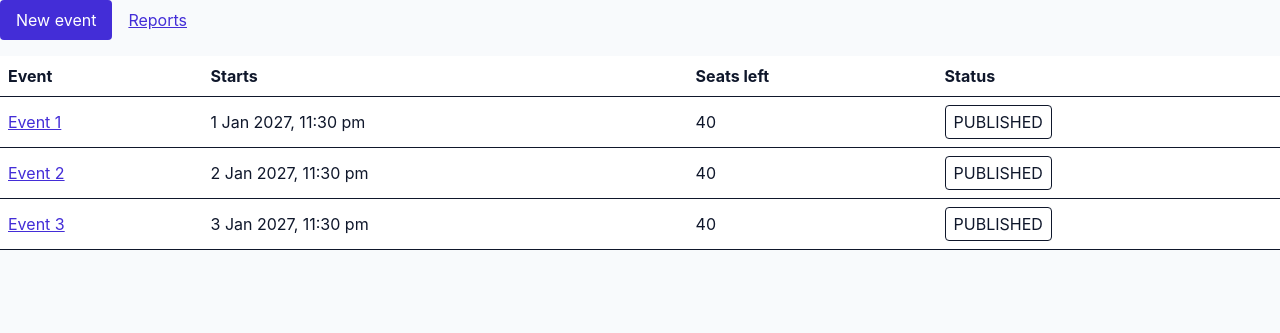
Test case: AdminEventList › rolls back and explains when the version is stale (409)
Step 1. Click the button with aria-label "Unpublish Event 1" → (998, 122), box top-left (945, 105), bottom-right (1052, 139)
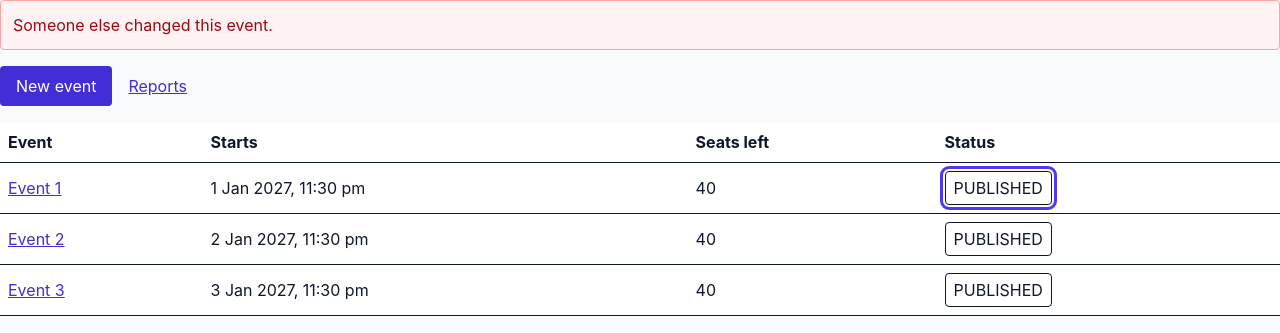
Expected: the button with aria-label "Unpublish Event 1" reads "PUBLISHED", top-left (945, 171), bottom-right (1052, 205)
Expected: the message reads "Someone else changed this event.", top-left (13, 15), bottom-right (273, 35)
